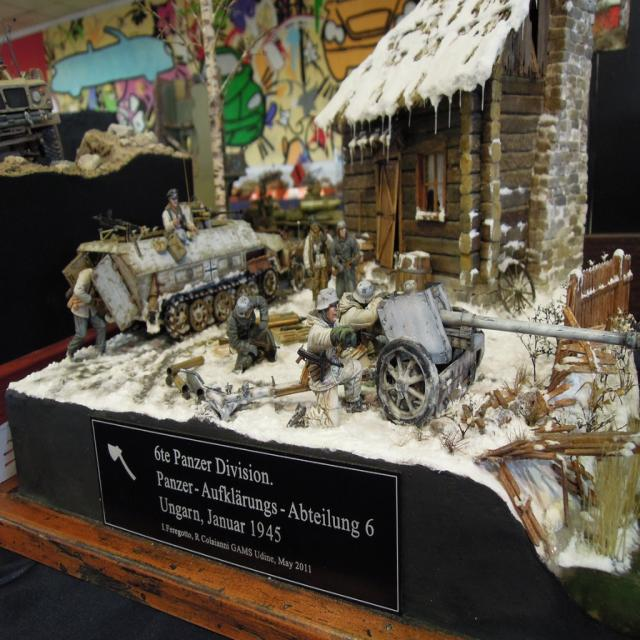tank: (60, 199, 292, 339)
